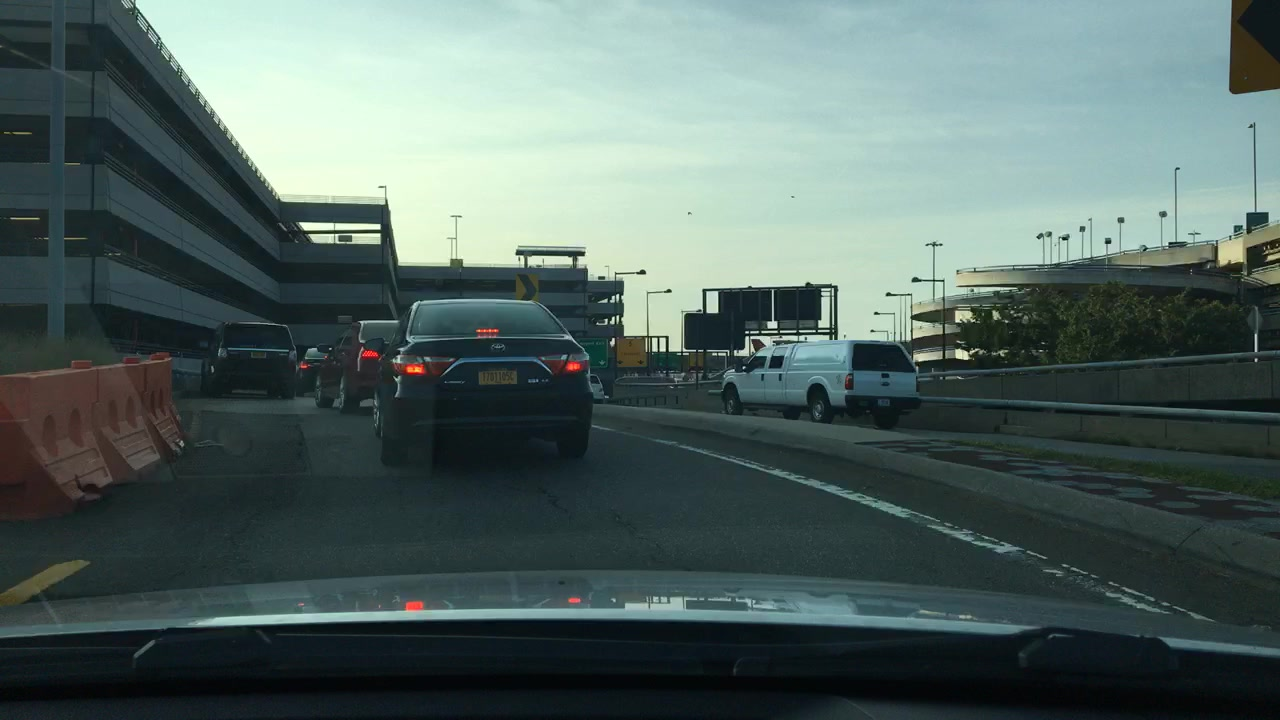licence: (478, 365, 520, 386)
